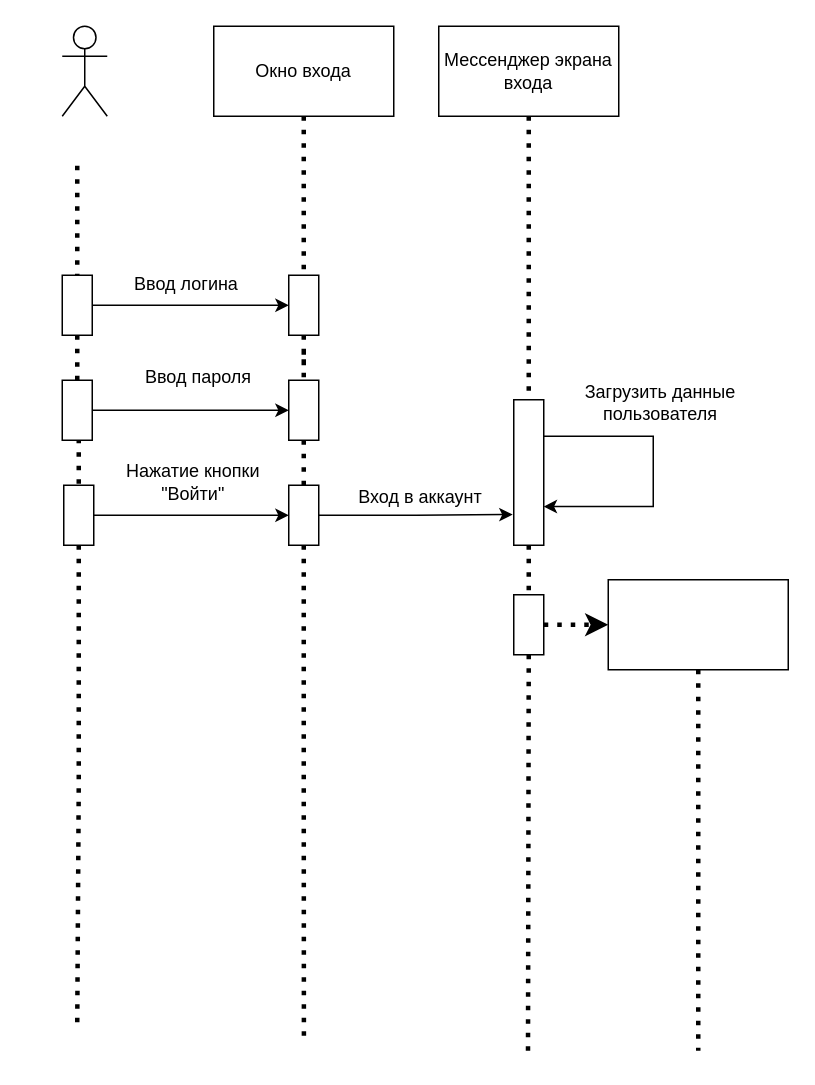
Some shapes in this 815 by 1085 pixel diagram are drawn without their labels. Here are the shapes that lost their labels. From the top down, the centre of each, then its label:
At [84,70]: "Пользователь".
At [697,624]: "Главное окно".
